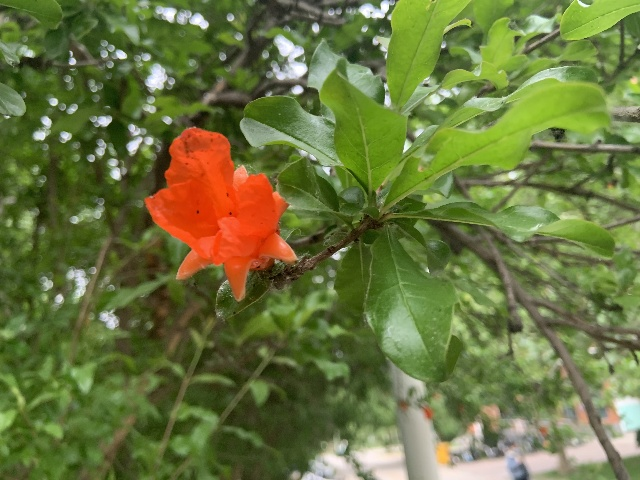flower: (144, 127, 296, 300)
